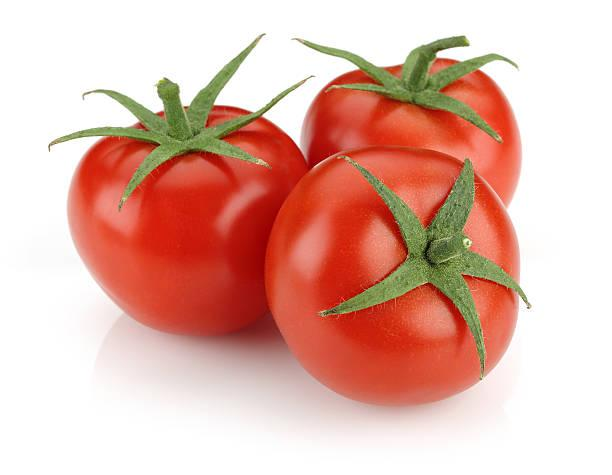Tomato: (65, 36, 523, 407)
